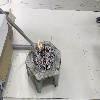fire: (38, 39, 42, 50)
